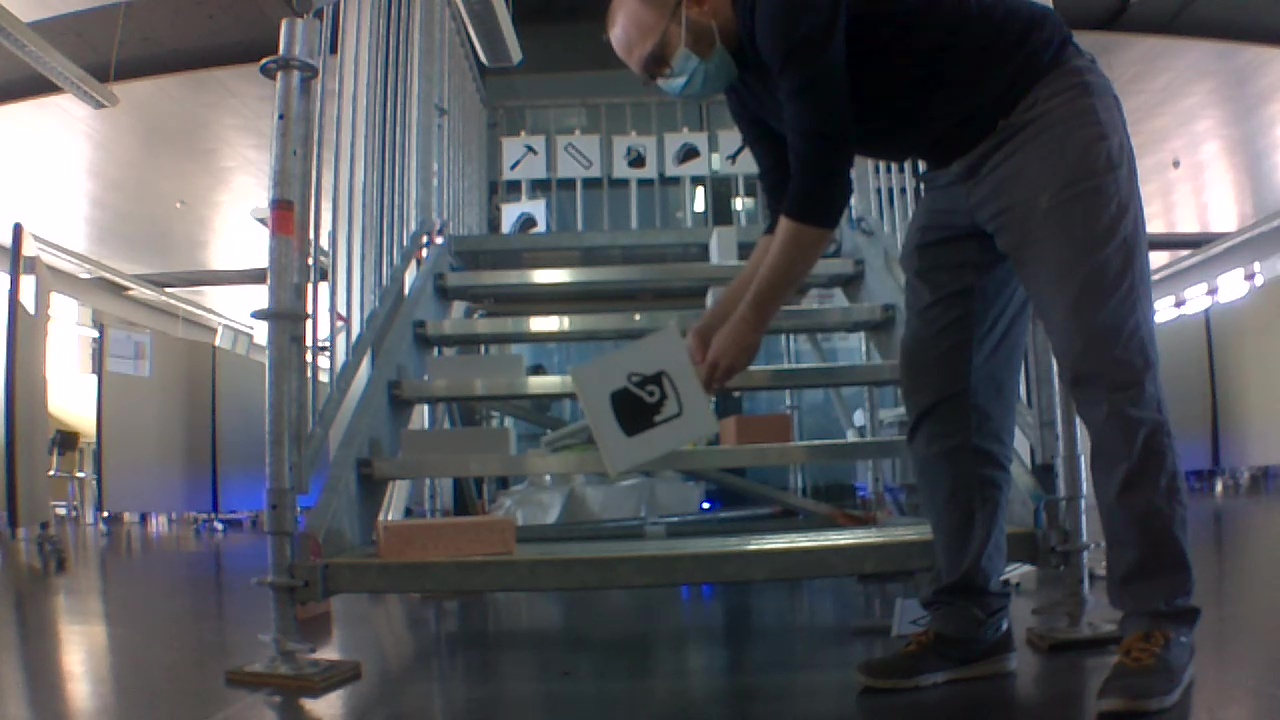brick: (380, 515, 514, 557), (402, 424, 517, 457), (426, 352, 526, 380), (723, 412, 791, 441), (711, 227, 737, 262)
bucket: (604, 365, 686, 441), (618, 140, 652, 172)
edge: (323, 530, 1037, 594)
hammer: (504, 140, 541, 177)
ruler: (558, 140, 595, 174)
taco: (670, 137, 702, 169), (505, 209, 540, 233)
